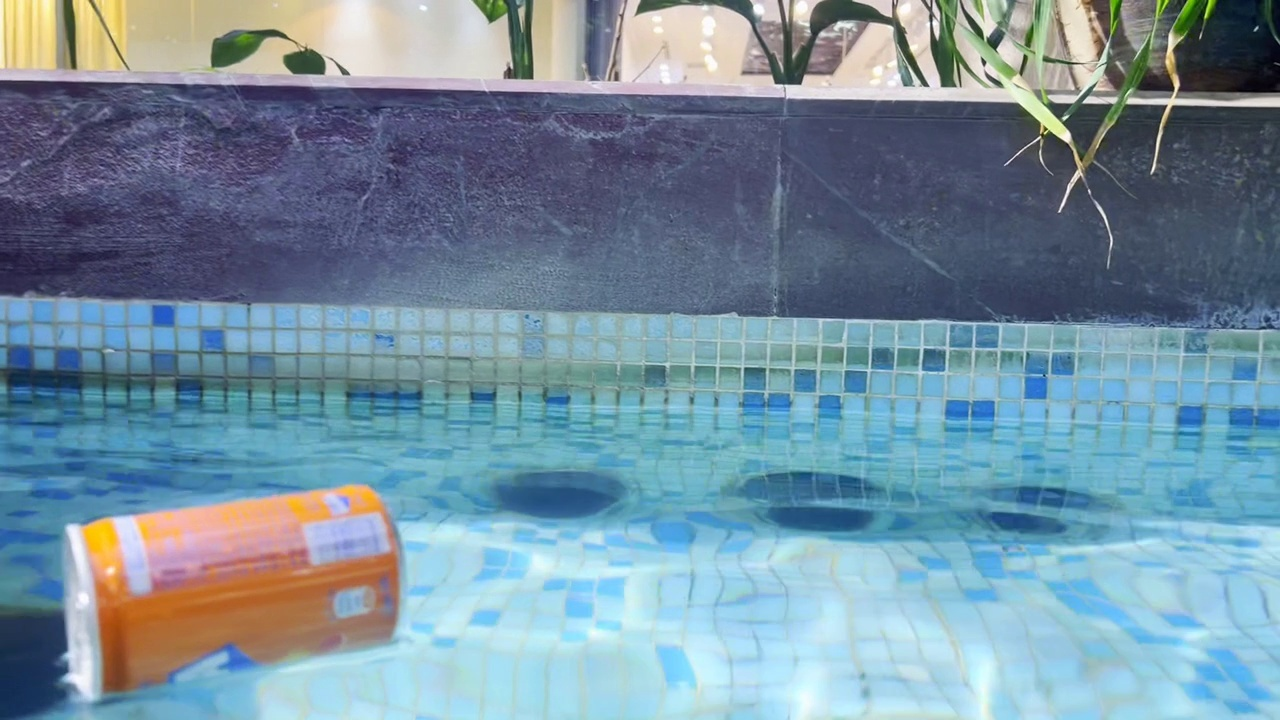debris: (43, 474, 411, 708)
